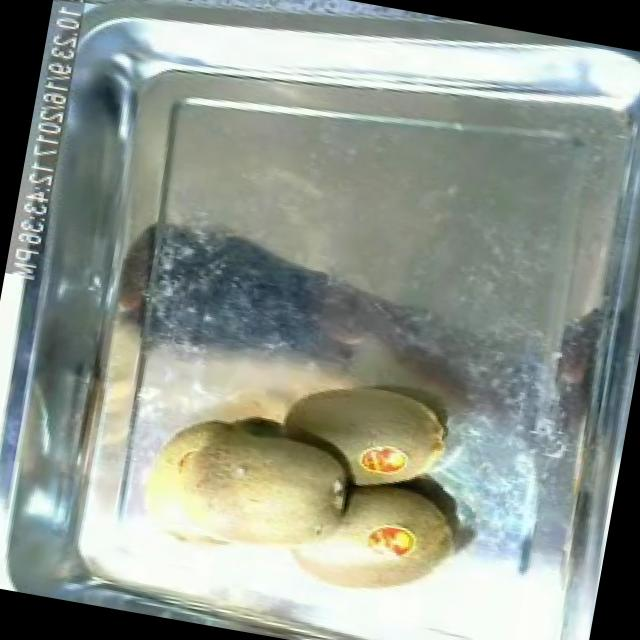Fruit: (117, 390, 370, 586), (264, 360, 463, 510)
